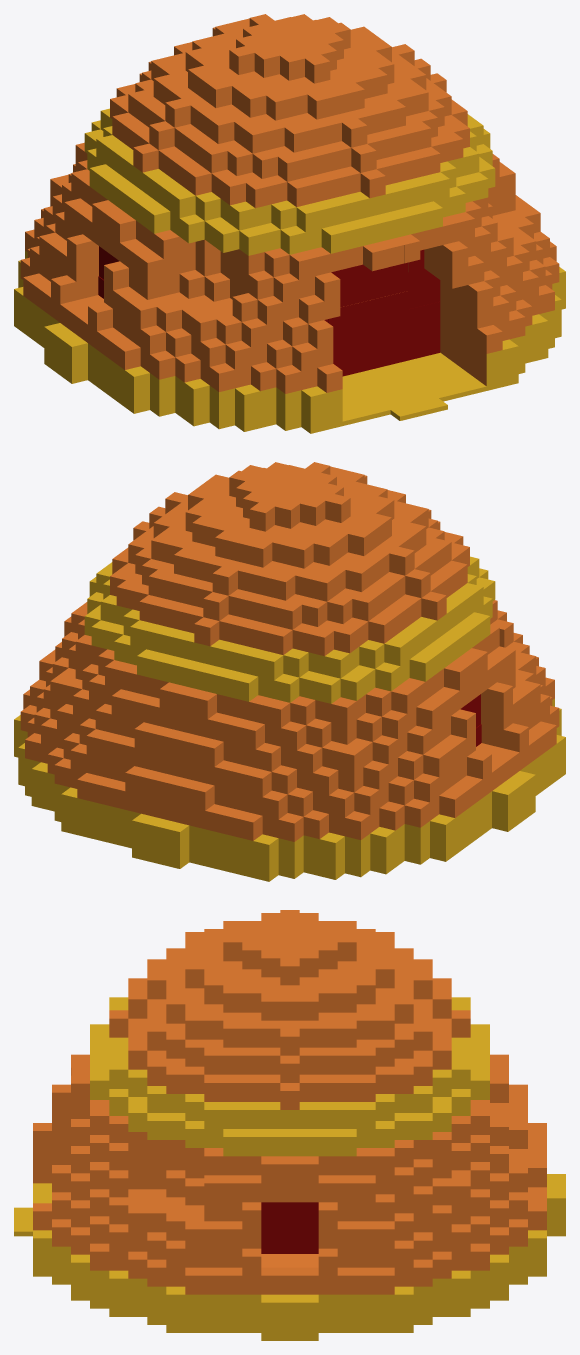
The model's file is Краснолапы.fbx.
The picture shows the model from 3 angles, top to bottom: view 1: azimuth 30°, elevation 25°; view 2: azimuth 150°, elevation 25°; view 3: azimuth 270°, elevation 25°; orthographic projection. The views are drawn at different scales.
Parts seen in each view (by area): view 1: Cube; view 2: Cube; view 3: Cube.
Part boxes in pixels (bbox=[...]): Cube: bbox=[14, 14, 565, 433]; Cube: bbox=[14, 462, 565, 881]; Cube: bbox=[14, 910, 565, 1340].
Size of the model in its own units: 367 by 210 by 367.
